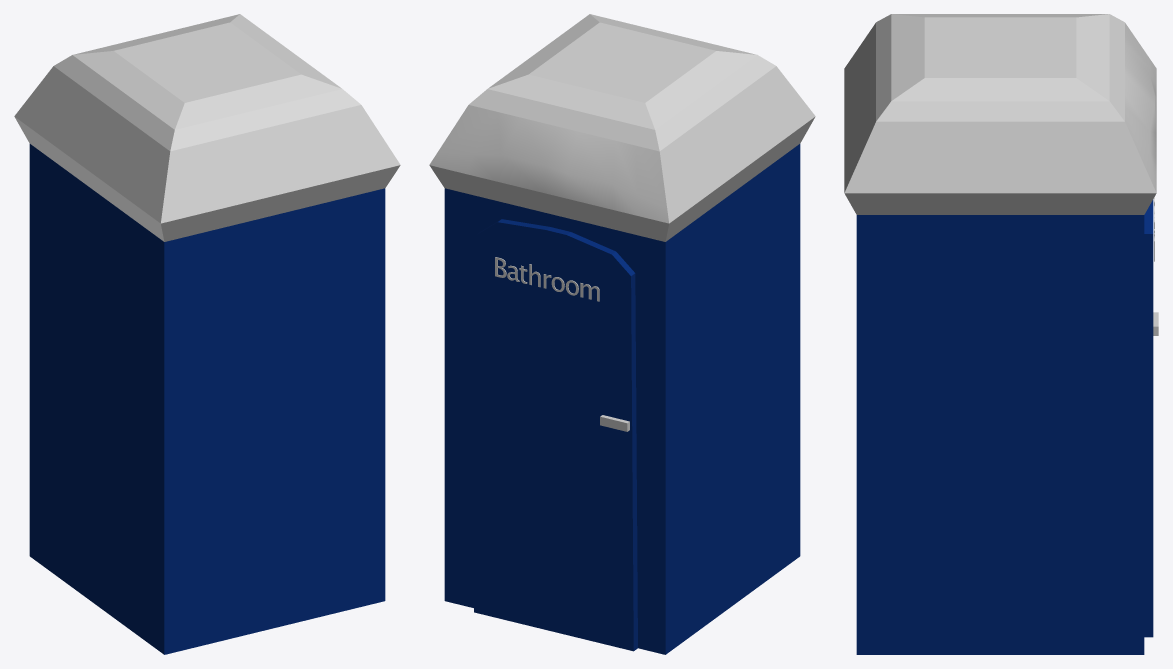
File: PortaPotty_01.fbx
3 views of the same model, side by side, from view 1: azimuth 30°, elevation 25°; view 2: azimuth 150°, elevation 25°; view 3: azimuth 270°, elevation 25° (orthographic). The views are drawn at different scales.
Visible parts, largest first — view 1: pCube1; view 2: pCube1, typeMesh1; view 3: pCube1.
Part boxes in pixels (box(x1,y1,x2,y2)): pCube1: box(14, 14, 400, 654); pCube1: box(429, 14, 815, 654); typeMesh1: box(495, 257, 599, 301); pCube1: box(844, 14, 1156, 654).
Size of the model in its own units: 1.08 by 2.23 by 1.15.
